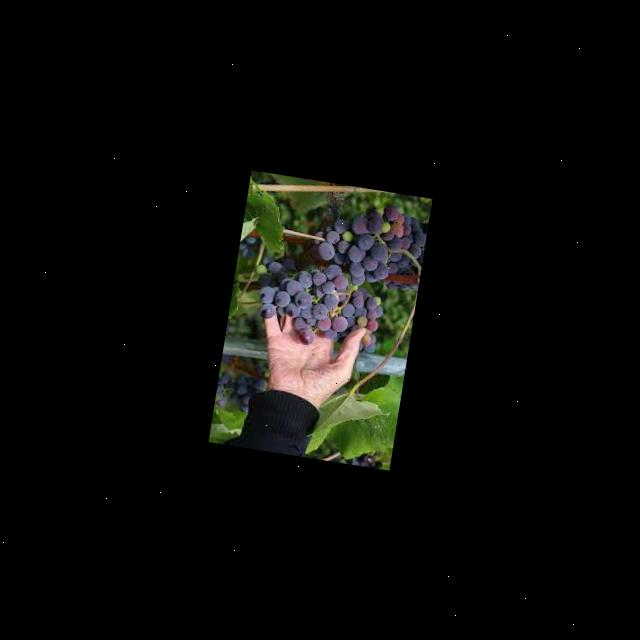grape: (258, 235, 378, 348)
